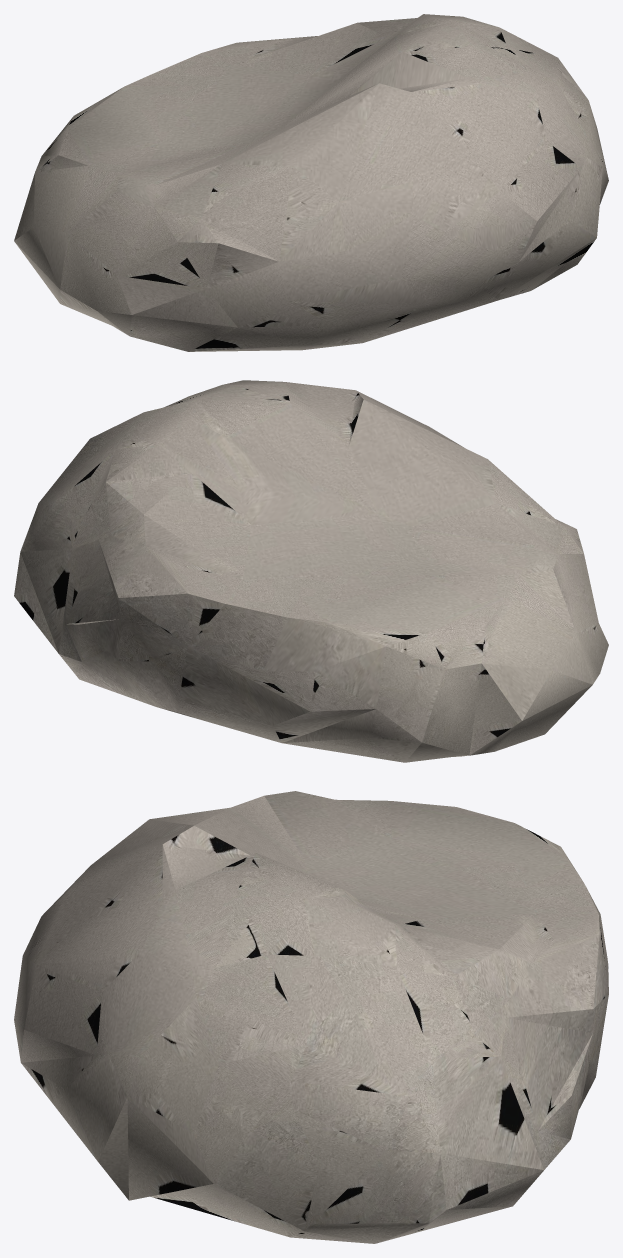
File: co_rounded_limestone_lod1.glb
The picture shows the model from 3 angles, top to bottom: view 1: azimuth 30°, elevation 25°; view 2: azimuth 150°, elevation 25°; view 3: azimuth 270°, elevation 25°; orthographic projection. The views are drawn at different scales.
Parts seen in each view (by area): view 1: output_unwrapped; view 2: output_unwrapped; view 3: output_unwrapped.
Part boxes in pixels (x1,y1,x2,y2): output_unwrapped: [14, 14, 608, 351]; output_unwrapped: [14, 380, 608, 762]; output_unwrapped: [14, 791, 608, 1243].
Size of the model in its own units: 1.89 by 0.8077 by 1.47.
Materials: 1 (1 with a texture image).
